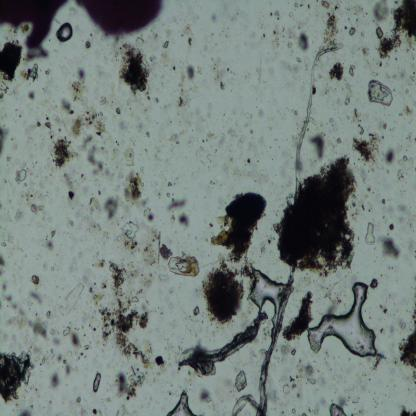Air bubble: (308, 280, 376, 360), (250, 268, 285, 322), (167, 390, 197, 415)
Background material: (272, 154, 356, 276), (90, 260, 153, 366), (59, 66, 108, 138), (201, 254, 244, 330), (374, 1, 416, 60), (212, 213, 258, 266), (110, 35, 152, 92), (1, 284, 46, 337), (0, 345, 33, 403), (282, 290, 317, 343), (350, 122, 381, 169), (175, 59, 202, 109), (398, 301, 416, 373), (219, 118, 254, 155), (47, 134, 78, 167), (77, 209, 108, 241), (142, 229, 172, 262), (0, 39, 23, 81), (120, 173, 148, 206), (320, 1, 340, 47), (366, 78, 394, 110), (59, 283, 83, 320), (61, 327, 89, 358), (117, 369, 146, 398), (116, 219, 139, 254), (167, 254, 200, 278), (82, 142, 104, 176), (24, 184, 46, 218), (0, 235, 27, 262), (288, 363, 316, 388), (285, 26, 310, 51), (40, 65, 56, 104), (378, 234, 401, 260), (397, 153, 416, 184), (322, 282, 343, 310), (123, 91, 148, 114), (308, 130, 326, 159), (102, 192, 121, 219), (373, 348, 394, 372), (100, 159, 119, 185), (398, 69, 416, 96), (165, 126, 185, 150), (212, 58, 226, 92), (62, 170, 75, 205), (396, 202, 414, 227), (106, 130, 121, 160), (40, 224, 58, 248), (350, 199, 372, 218), (312, 374, 335, 392), (232, 367, 248, 392), (281, 55, 301, 75), (28, 46, 50, 64), (326, 397, 348, 415), (339, 80, 354, 106), (328, 58, 344, 82), (279, 340, 297, 361), (344, 4, 366, 21), (66, 252, 83, 274), (258, 233, 274, 255), (182, 26, 196, 51), (401, 125, 416, 148), (56, 23, 73, 43), (352, 107, 364, 135), (14, 160, 28, 184), (56, 355, 72, 376), (253, 55, 264, 85), (269, 26, 284, 48), (365, 222, 378, 247), (158, 38, 171, 63), (121, 147, 136, 168), (166, 196, 188, 210), (27, 288, 44, 306), (378, 303, 398, 318), (149, 141, 164, 161), (0, 126, 10, 155), (25, 63, 40, 82), (348, 390, 363, 409), (48, 369, 62, 389), (177, 211, 191, 230), (116, 118, 132, 134), (362, 180, 378, 196), (87, 196, 102, 213), (91, 371, 102, 394), (137, 121, 151, 139), (33, 117, 52, 130), (143, 204, 156, 222), (154, 352, 166, 371), (362, 43, 374, 61), (74, 394, 86, 412), (384, 148, 396, 166), (207, 12, 221, 27), (198, 389, 212, 403), (0, 249, 7, 276), (332, 130, 343, 147), (266, 7, 280, 20), (204, 146, 214, 164), (347, 406, 365, 416), (400, 404, 416, 415), (0, 84, 10, 101), (46, 260, 58, 274), (369, 276, 380, 291), (29, 272, 40, 287), (64, 216, 74, 232), (14, 209, 24, 224), (402, 104, 414, 116), (225, 63, 234, 79), (202, 128, 212, 142), (385, 203, 396, 214), (203, 216, 213, 228), (89, 408, 103, 416), (196, 143, 206, 154), (349, 25, 358, 37), (18, 408, 31, 416), (84, 36, 92, 49), (243, 155, 252, 166), (27, 90, 36, 101), (199, 42, 208, 53), (130, 133, 137, 147), (192, 304, 200, 316), (166, 181, 178, 189), (348, 63, 354, 78), (293, 1, 303, 9), (208, 179, 218, 187), (291, 107, 299, 116), (328, 114, 334, 126), (172, 63, 178, 75), (115, 107, 122, 116), (377, 59, 384, 68), (388, 222, 394, 232), (154, 98, 161, 106), (147, 93, 152, 104), (383, 122, 388, 132), (260, 31, 266, 39), (96, 188, 102, 196), (8, 158, 14, 166), (289, 11, 295, 18), (381, 197, 386, 205), (307, 2, 311, 9), (381, 135, 385, 139)
Cellulose filter fibre: (231, 269, 295, 415), (294, 43, 344, 198), (180, 307, 266, 375)
Fragment: (226, 192, 270, 222)
Pen: (0, 0, 163, 46)
